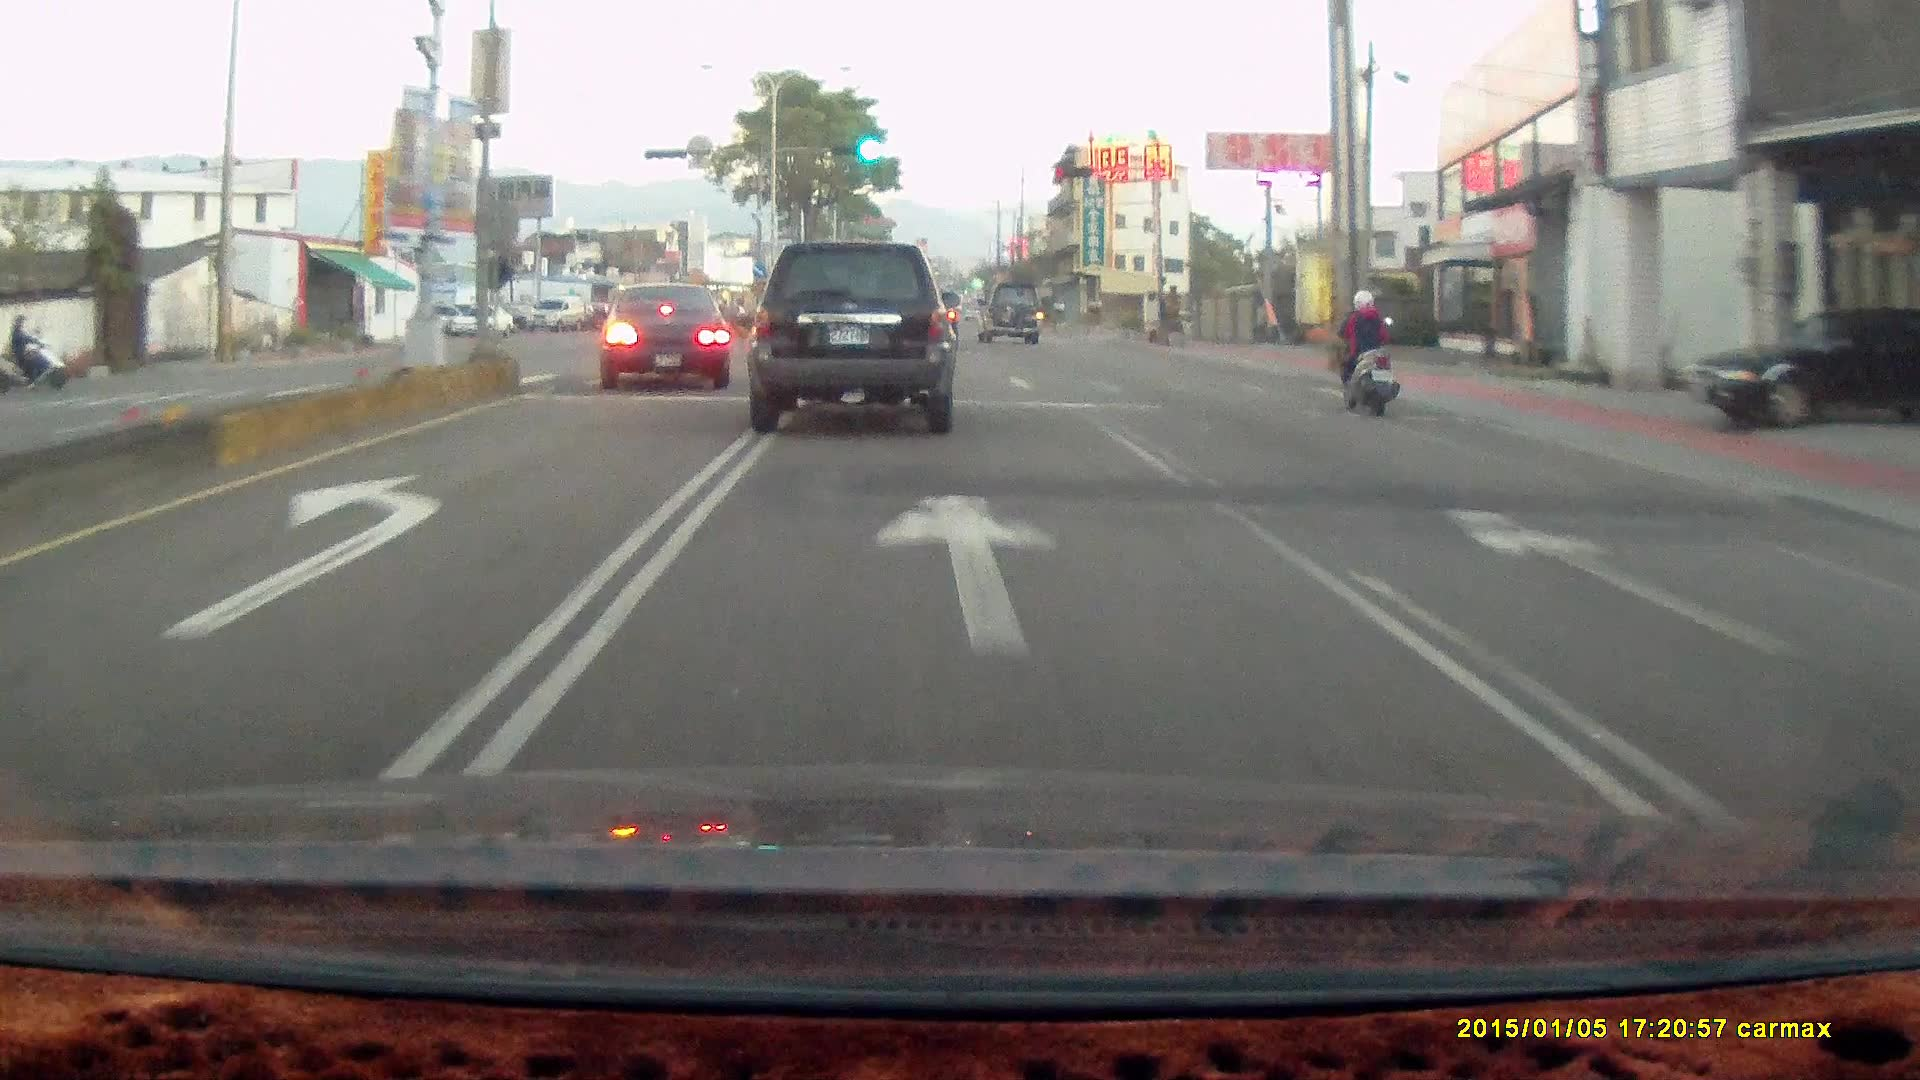rider: (1319, 277, 1412, 428), (1327, 289, 1396, 417), (0, 312, 73, 389)
vehicle: (745, 234, 962, 431), (746, 241, 959, 435), (1687, 304, 1919, 431), (1703, 303, 1898, 438), (595, 283, 739, 395), (593, 283, 733, 392), (975, 282, 1045, 348), (973, 281, 1040, 344), (446, 303, 512, 340), (525, 295, 584, 331)
